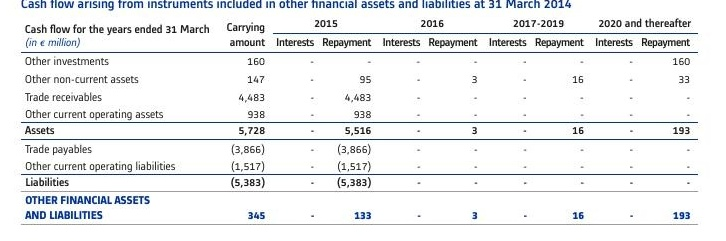table: (0, 0, 726, 241)
